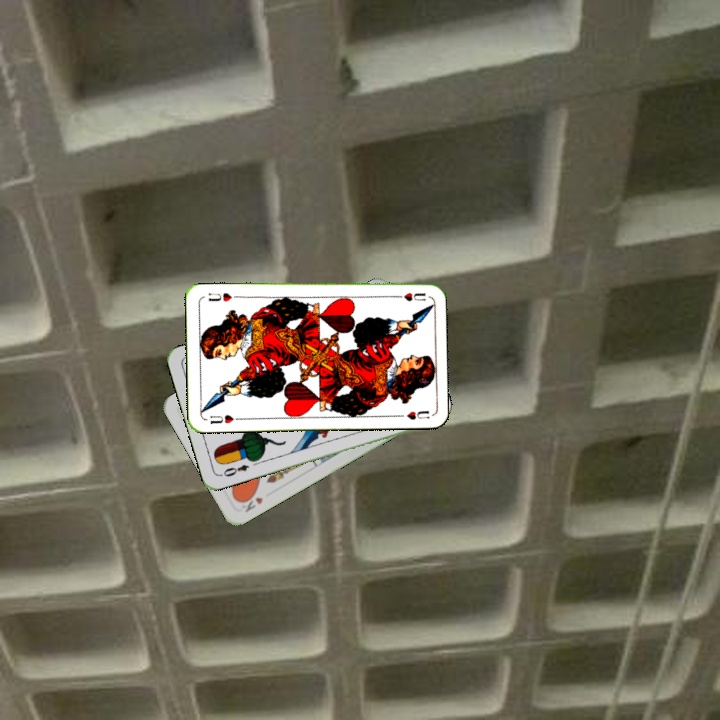EO: (216, 460, 252, 479)
HK: (236, 489, 266, 515)
HU: (389, 288, 428, 303), (206, 411, 243, 426)
